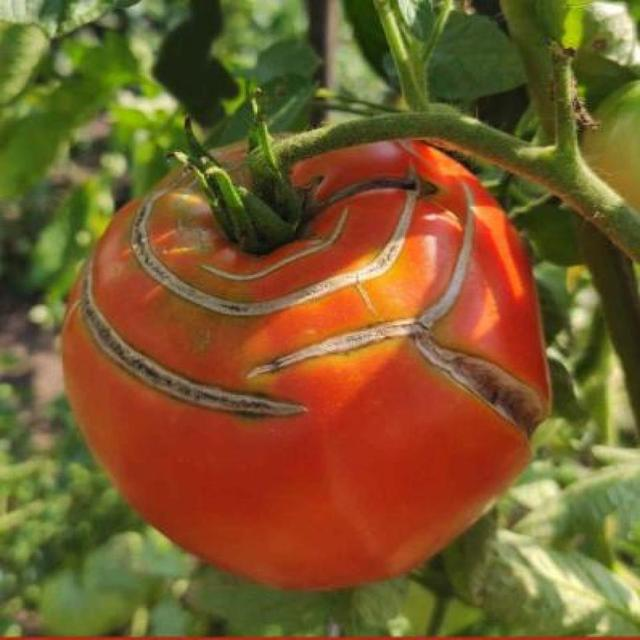Cracking Fruit: (129, 126, 238, 217)
